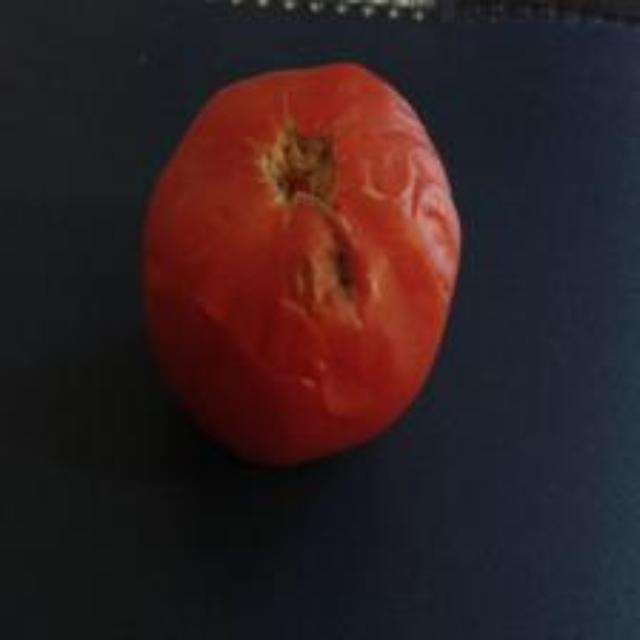defect: (134, 54, 467, 469)
